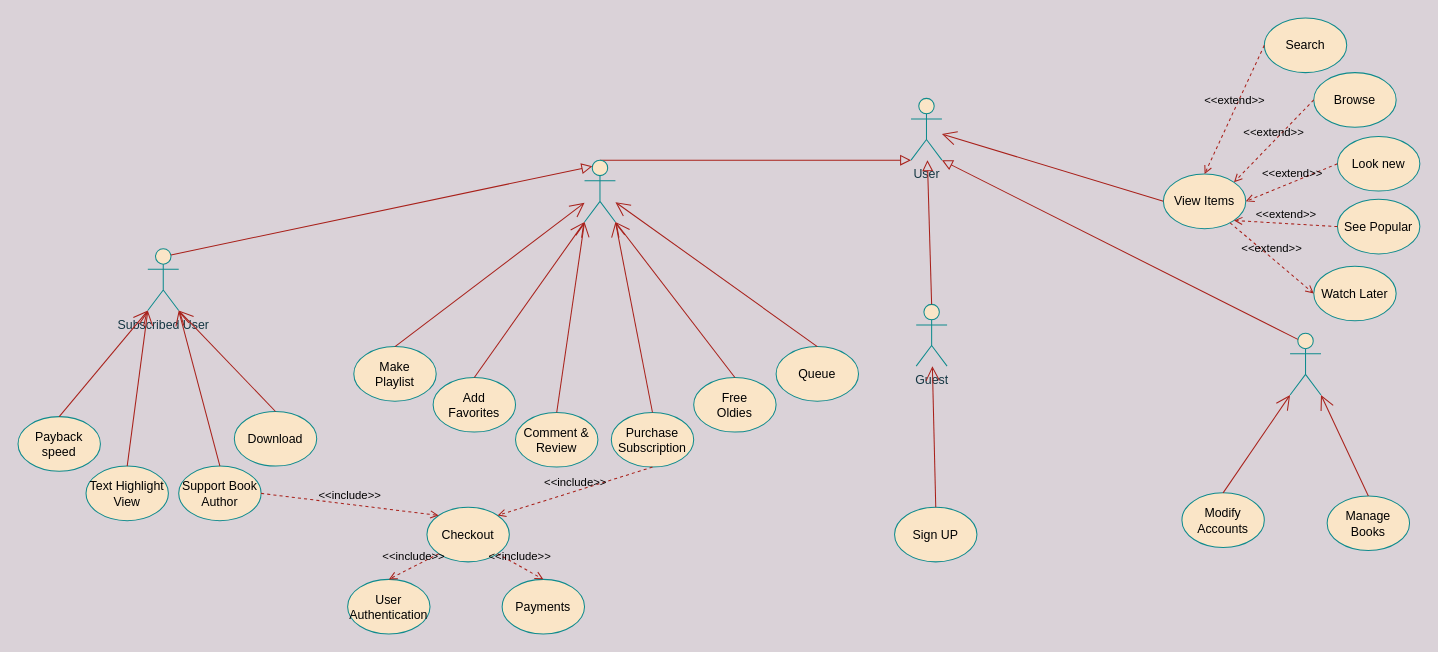
Image size: 1438x652. Some labels were removed from this diagram. Each missing label, with the box of its shape:
Admin: (1289, 332, 1321, 395)
Reregistered User: (583, 159, 615, 222)
